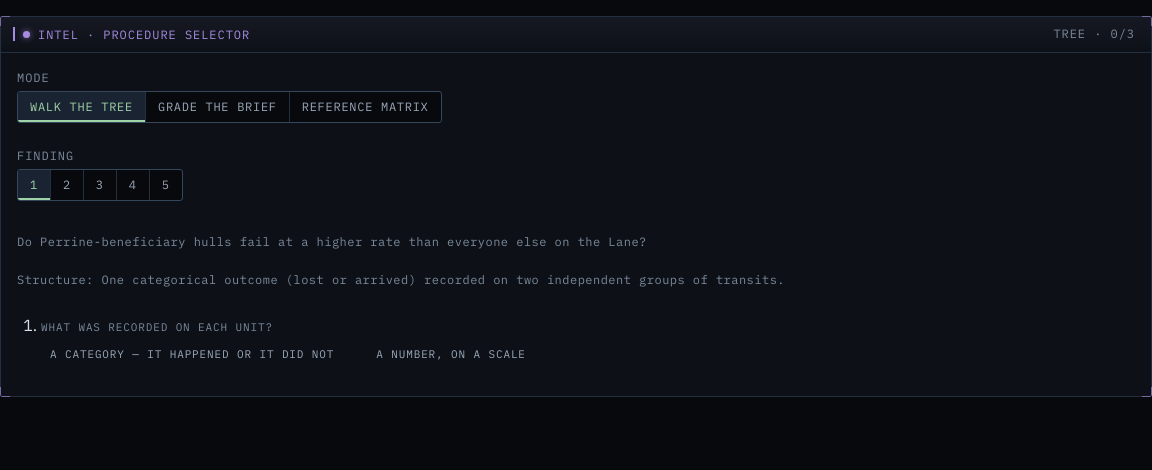
Test: <ProcedureSelector> (act-7-07) › opens on the tree and explains a wrong turn at the turn
The image size is (1152, 470).
Click the button "a number, on a scale".
click(451, 355)  # box [367, 342, 535, 368]
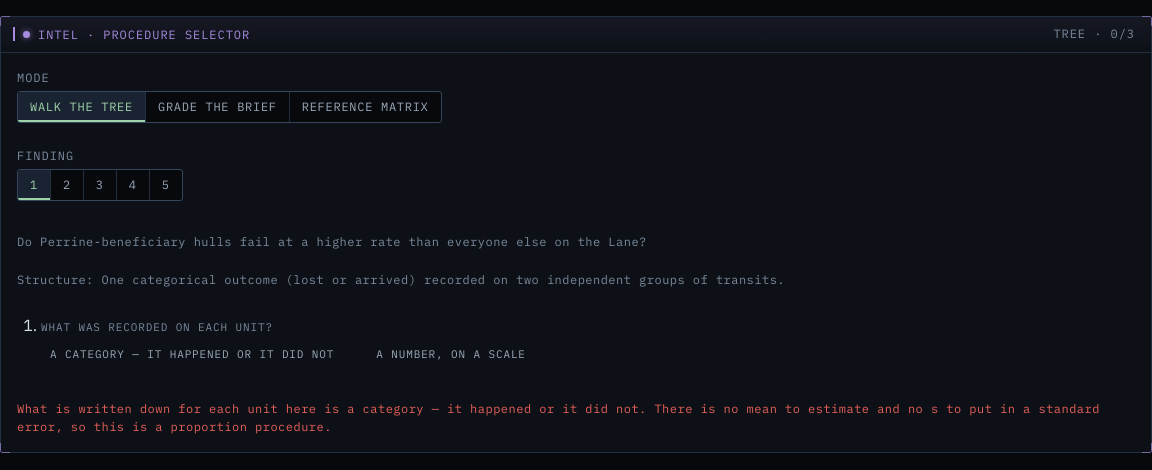
Now the text "no mean to estimate" is shown, box [17, 401, 1100, 434]
